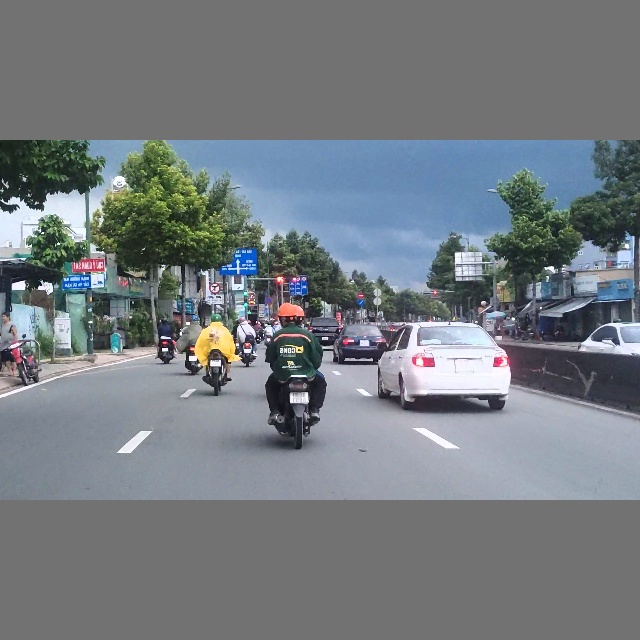P.102: (357, 293, 364, 299)
P.137: (209, 283, 221, 294)
R.302a: (358, 300, 364, 306)
R.415a: (289, 281, 308, 295)
